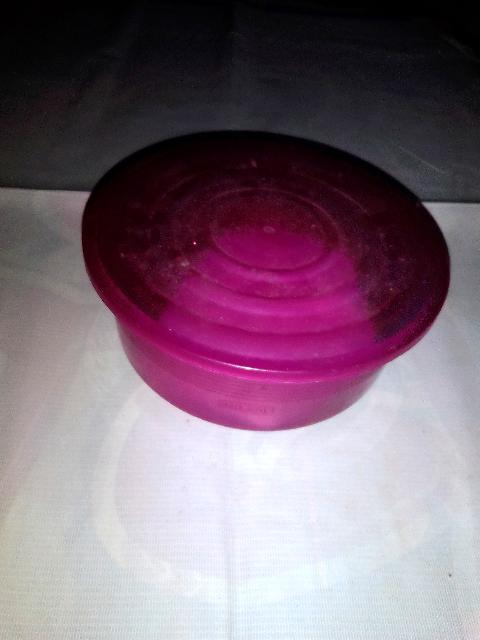hardplastic: (62, 130, 476, 436)
